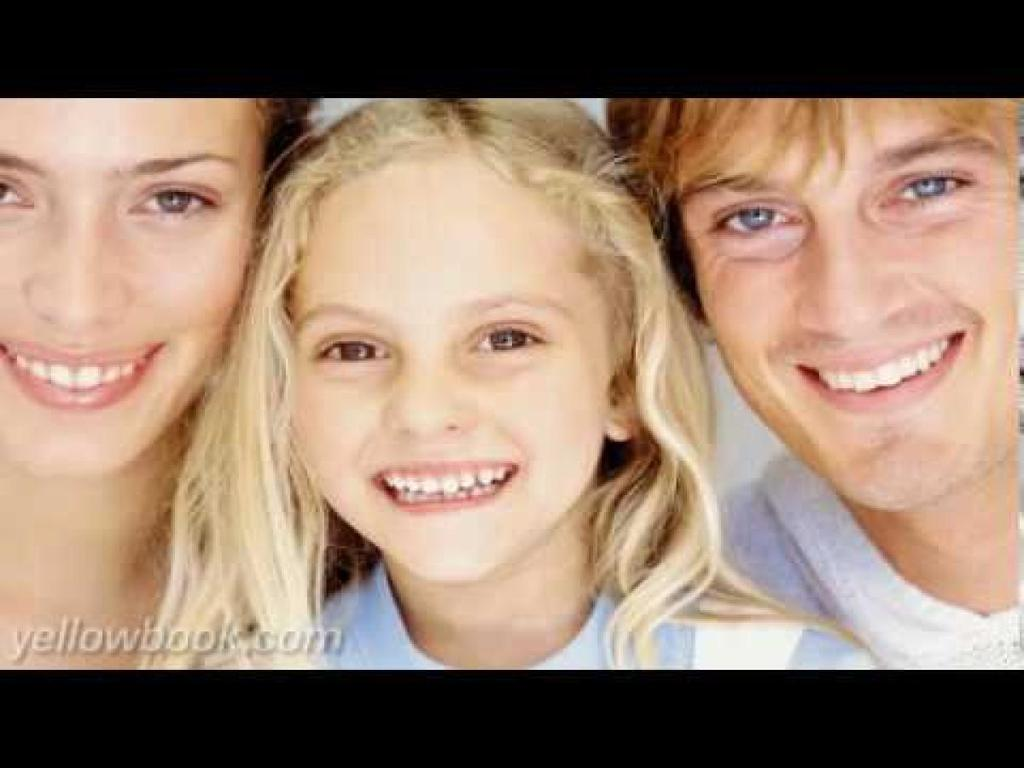face: (686, 94, 1024, 514), (304, 190, 614, 580), (0, 94, 258, 470)
